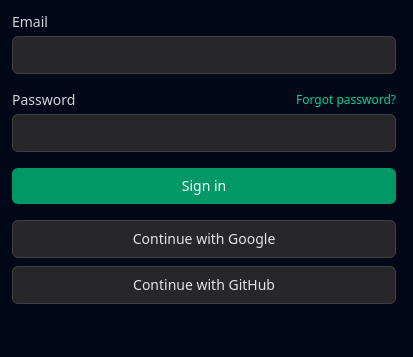
Test: sign-in after registration › does not navigate when the provider returns no sign-in response
The width and height of the screenshot is (413, 357).
Type "person@example.com" into the field labelled "Email" at (204, 55), box [12,36,396,74]
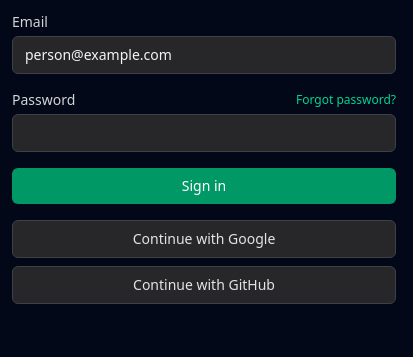
Type "valid password" into the password field labelled "Password" at (204, 133), box [12,114,396,152]
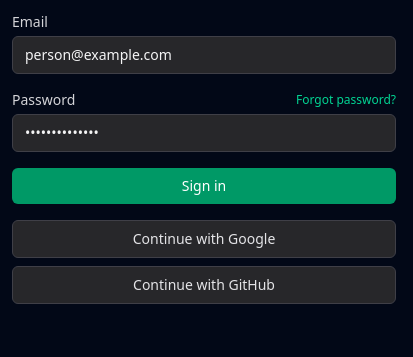
Click the button "Sign in" at (204, 186), box [12,168,396,204]
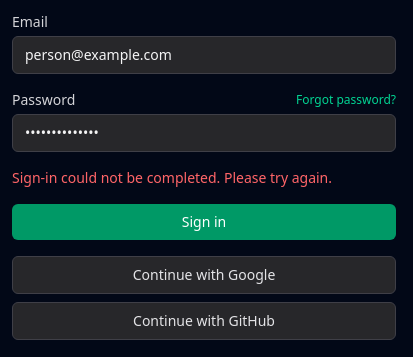
Result: the message shows "could not be completed" at [12,168,332,187]
